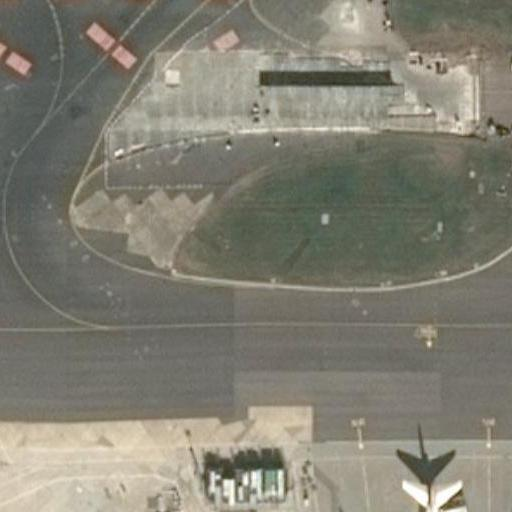Aircraft: (337, 463, 512, 512)
